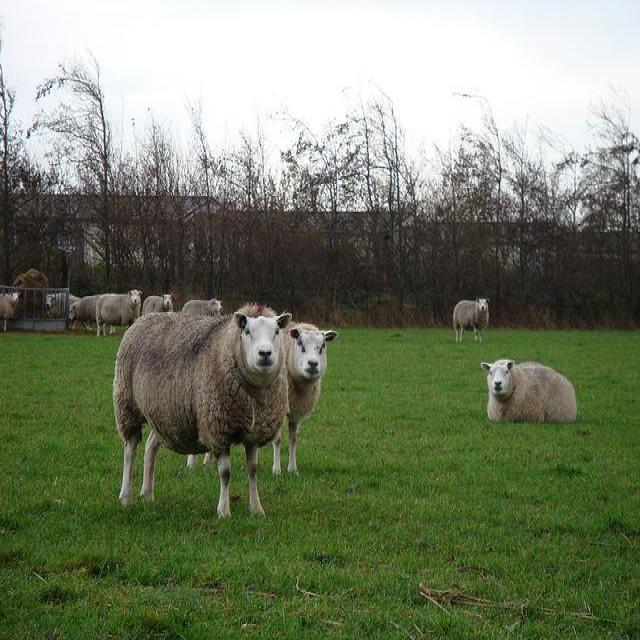Sheep: (116, 303, 290, 520), (272, 314, 339, 478), (481, 358, 577, 422), (96, 291, 143, 337), (452, 299, 491, 344)
